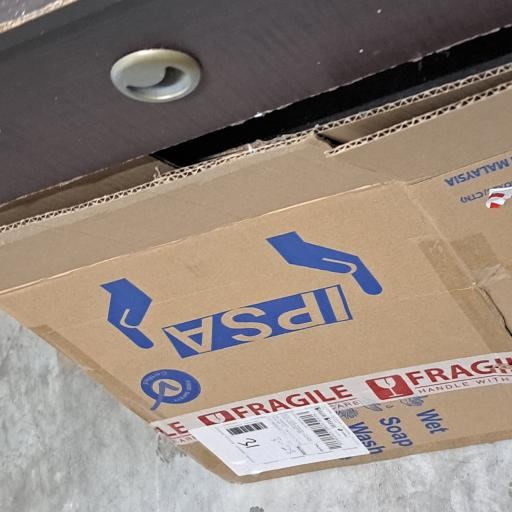cardboard: (23, 0, 338, 512)
